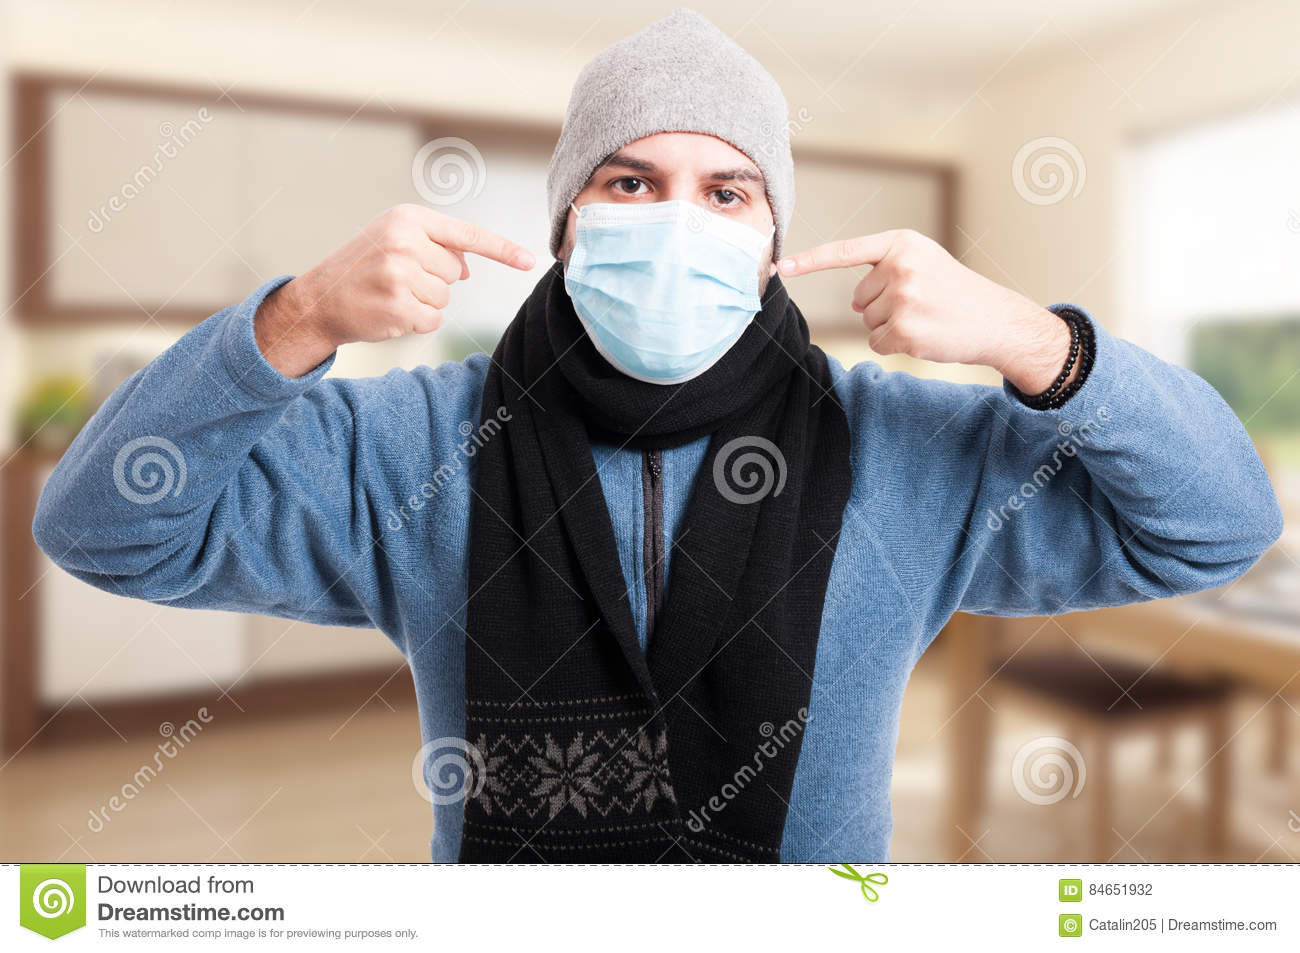mask: (565, 202, 766, 381)
